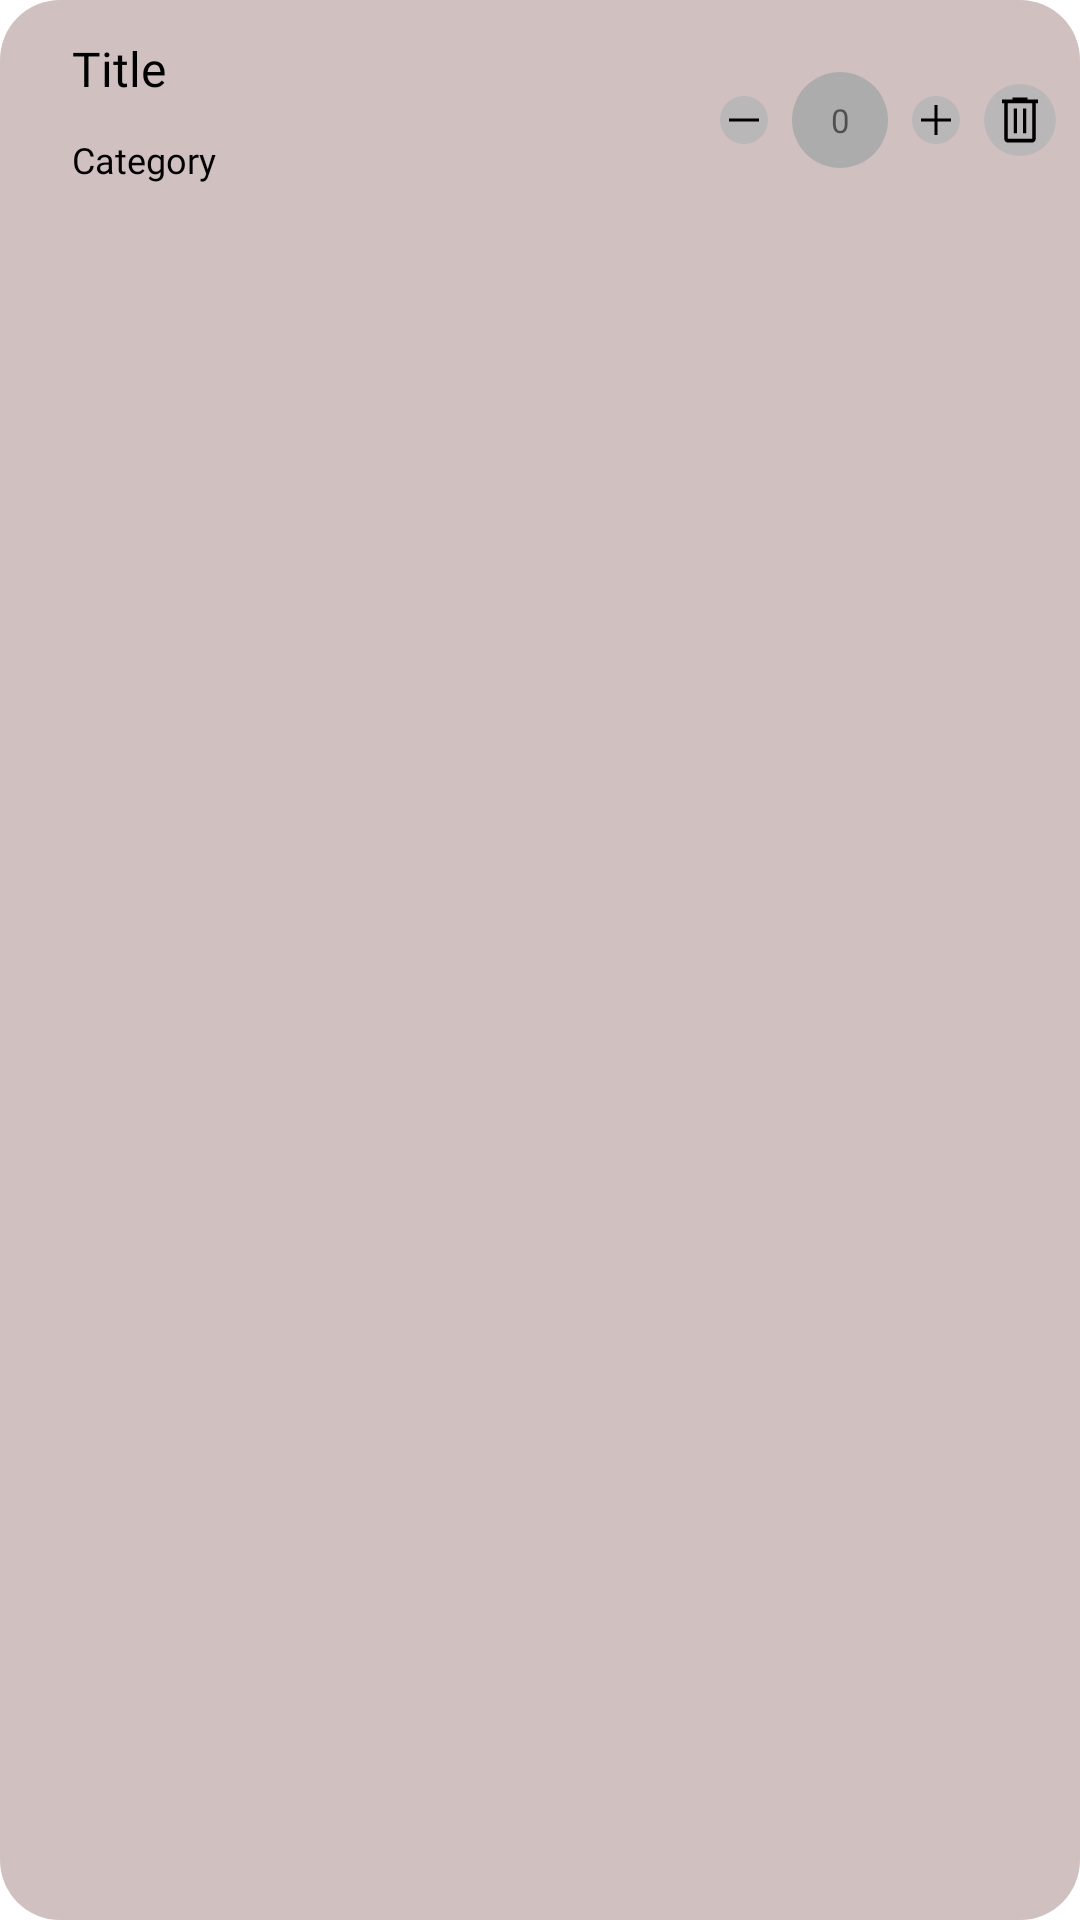

Screen size 1080x1920. Icon name, then its box in pixels as (x1, y1, x2, y2):
Add One Item: (912, 96, 960, 144)
Delete An Item: (1002, 97, 1038, 143)
